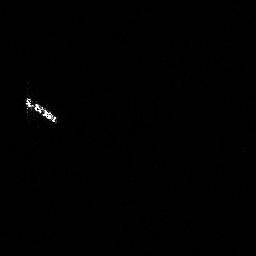ship: (22, 93, 60, 126)
